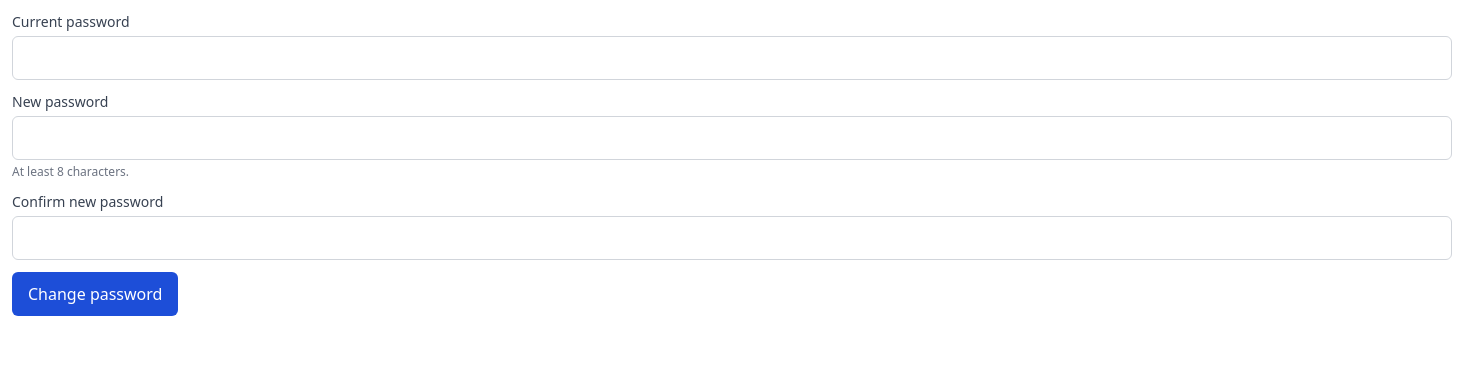
Test: ChangePasswordForm › sends nothing when the form is invalid (, newpass123, newpass123)
In the password field labelled "New password": x=732, y=138 top-left (12, 116), bottom-right (1452, 160), type "newpass123"
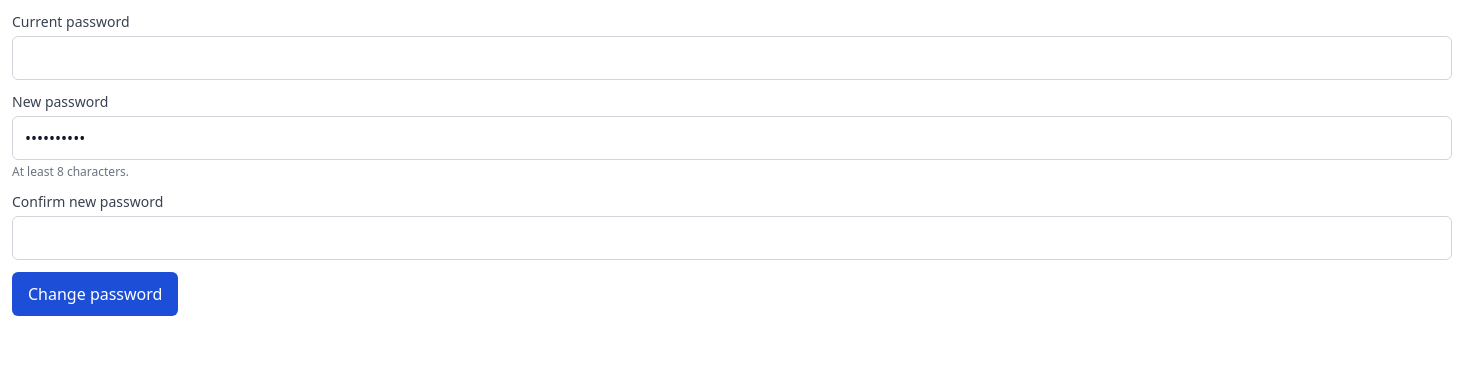
In the password field labelled "Confirm new password": x=732, y=238 top-left (12, 216), bottom-right (1452, 260), type "newpass123"
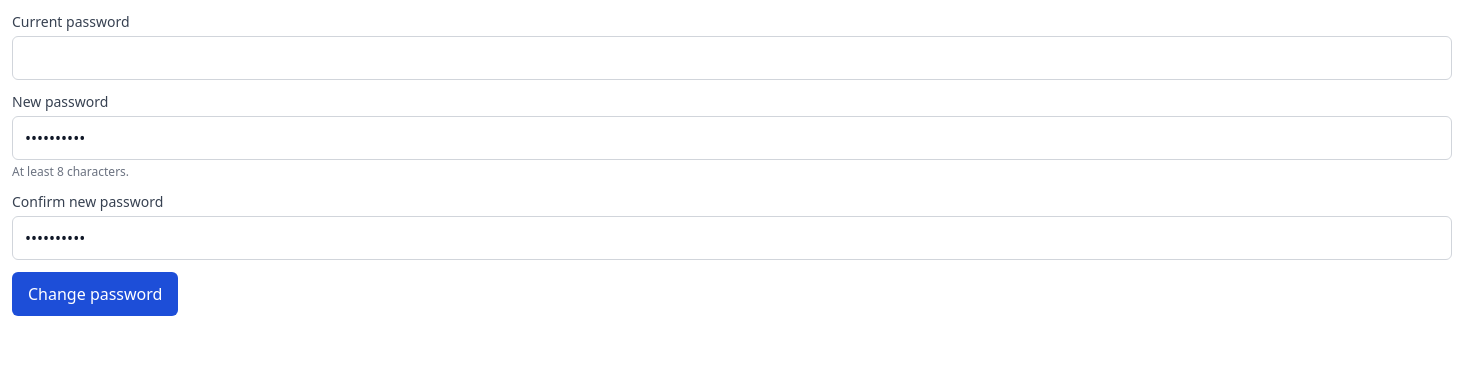
Click the button "Change password": x=95, y=294 top-left (12, 272), bottom-right (178, 316)
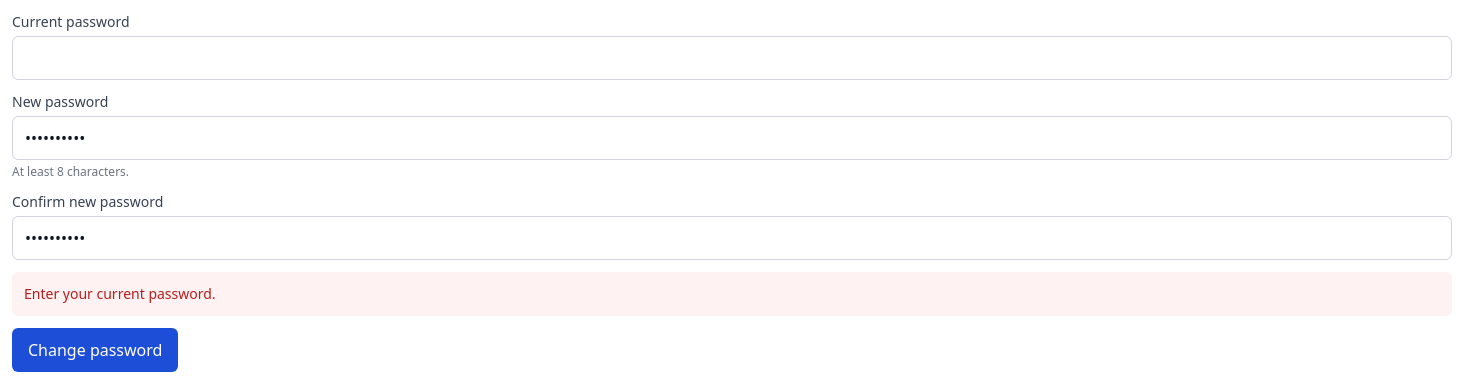
expect the message "Enter your current password." is shown: met, box top-left (12, 272), bottom-right (1452, 316)
